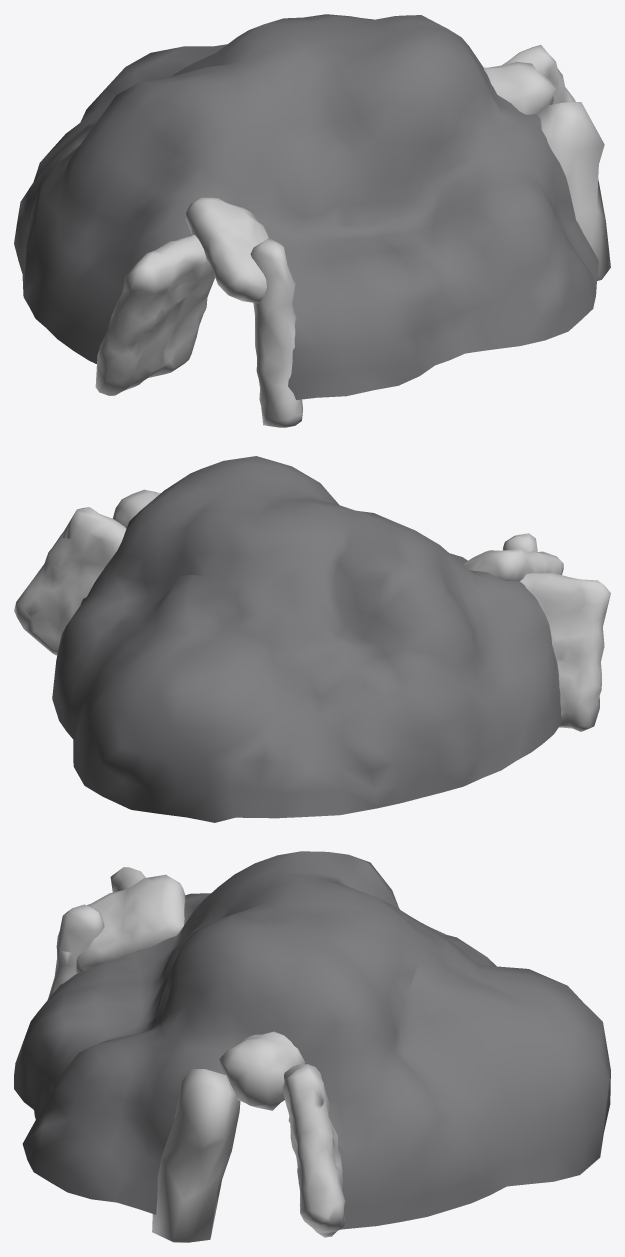
File: Painting Cave Expanded.fbx
The picture shows the model from 3 angles, top to bottom: view 1: azimuth 30°, elevation 25°; view 2: azimuth 150°, elevation 25°; view 3: azimuth 270°, elevation 25°; orthographic projection. The views are drawn at different scales.
Visible parts, largest first — view 1: Cave, Painting Exit, Painting Entery; view 2: Cave, Painting Exit, Painting Entery; view 3: Cave, Painting Entery, Painting Exit.
Boxes of the visible parts, <box> form: Cave: <box>14,14,598,399</box>; Painting Exit: <box>95,197,302,427</box>; Painting Entery: <box>483,45,610,280</box>; Cave: <box>52,456,561,822</box>; Painting Exit: <box>463,533,610,731</box>; Painting Entery: <box>14,489,160,655</box>; Cave: <box>14,851,610,1229</box>; Painting Entery: <box>152,1031,345,1242</box>; Painting Exit: <box>47,867,185,999</box>.
Size of the model in its own units: 1079 by 472 by 989.
